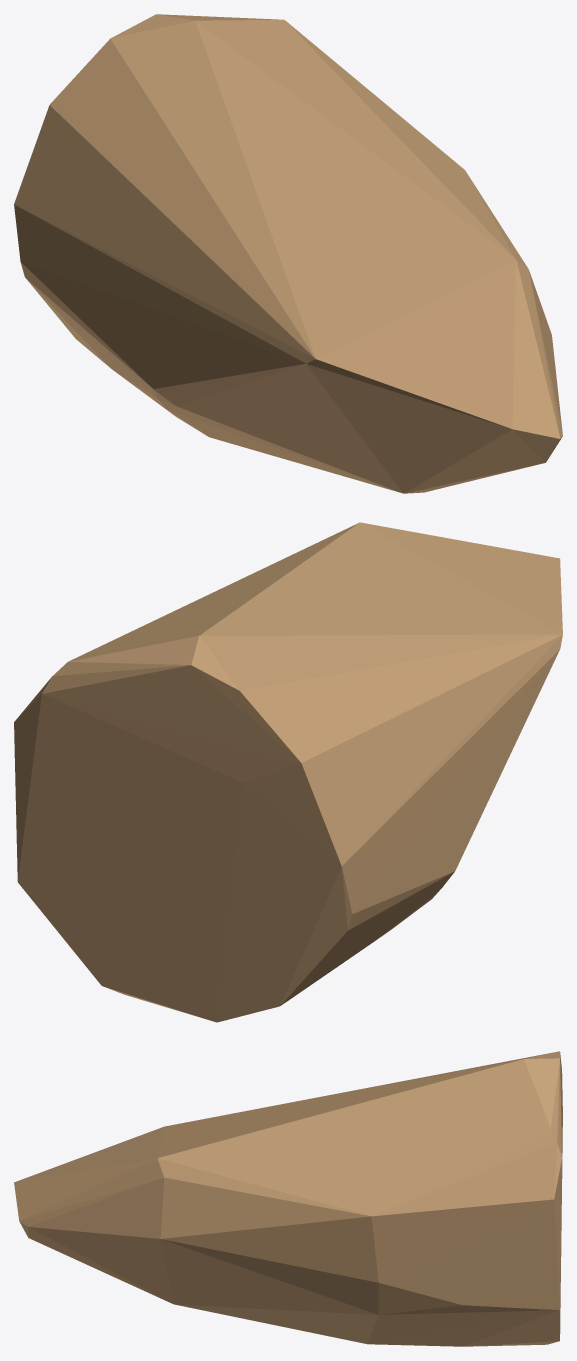
The model's file is paint_container_bottle_red_a03.glb.
3 renders of one model, top to bottom at view 1: azimuth 30°, elevation 25°; view 2: azimuth 150°, elevation 25°; view 3: azimuth 270°, elevation 25°, orthographic. The views are drawn at different scales.
Parts seen in each view (by area): view 1: geometry_0; view 2: geometry_0; view 3: geometry_0.
Part boxes in pixels (x1,y1,x2,y2): geometry_0: (14, 14, 562, 493); geometry_0: (14, 522, 562, 1022); geometry_0: (14, 1051, 562, 1346).
Size of the model in its own units: 0.2586 by 0.2548 by 0.479.
